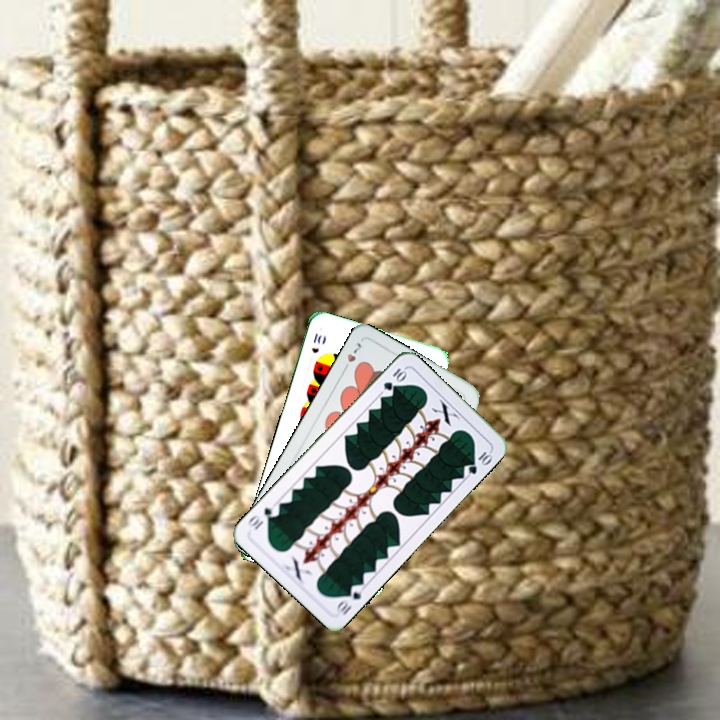G10: (333, 580, 367, 619), (379, 364, 409, 393)
H7: (339, 338, 366, 374)
S10: (308, 329, 324, 356)
